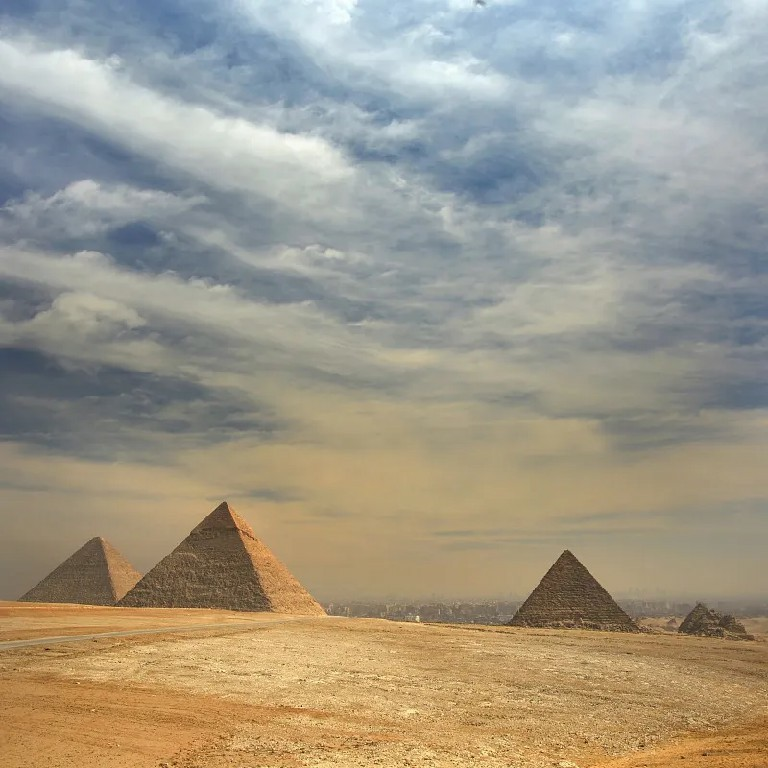Pyramid: (118, 501, 327, 617), (509, 551, 642, 632), (15, 536, 144, 606)
